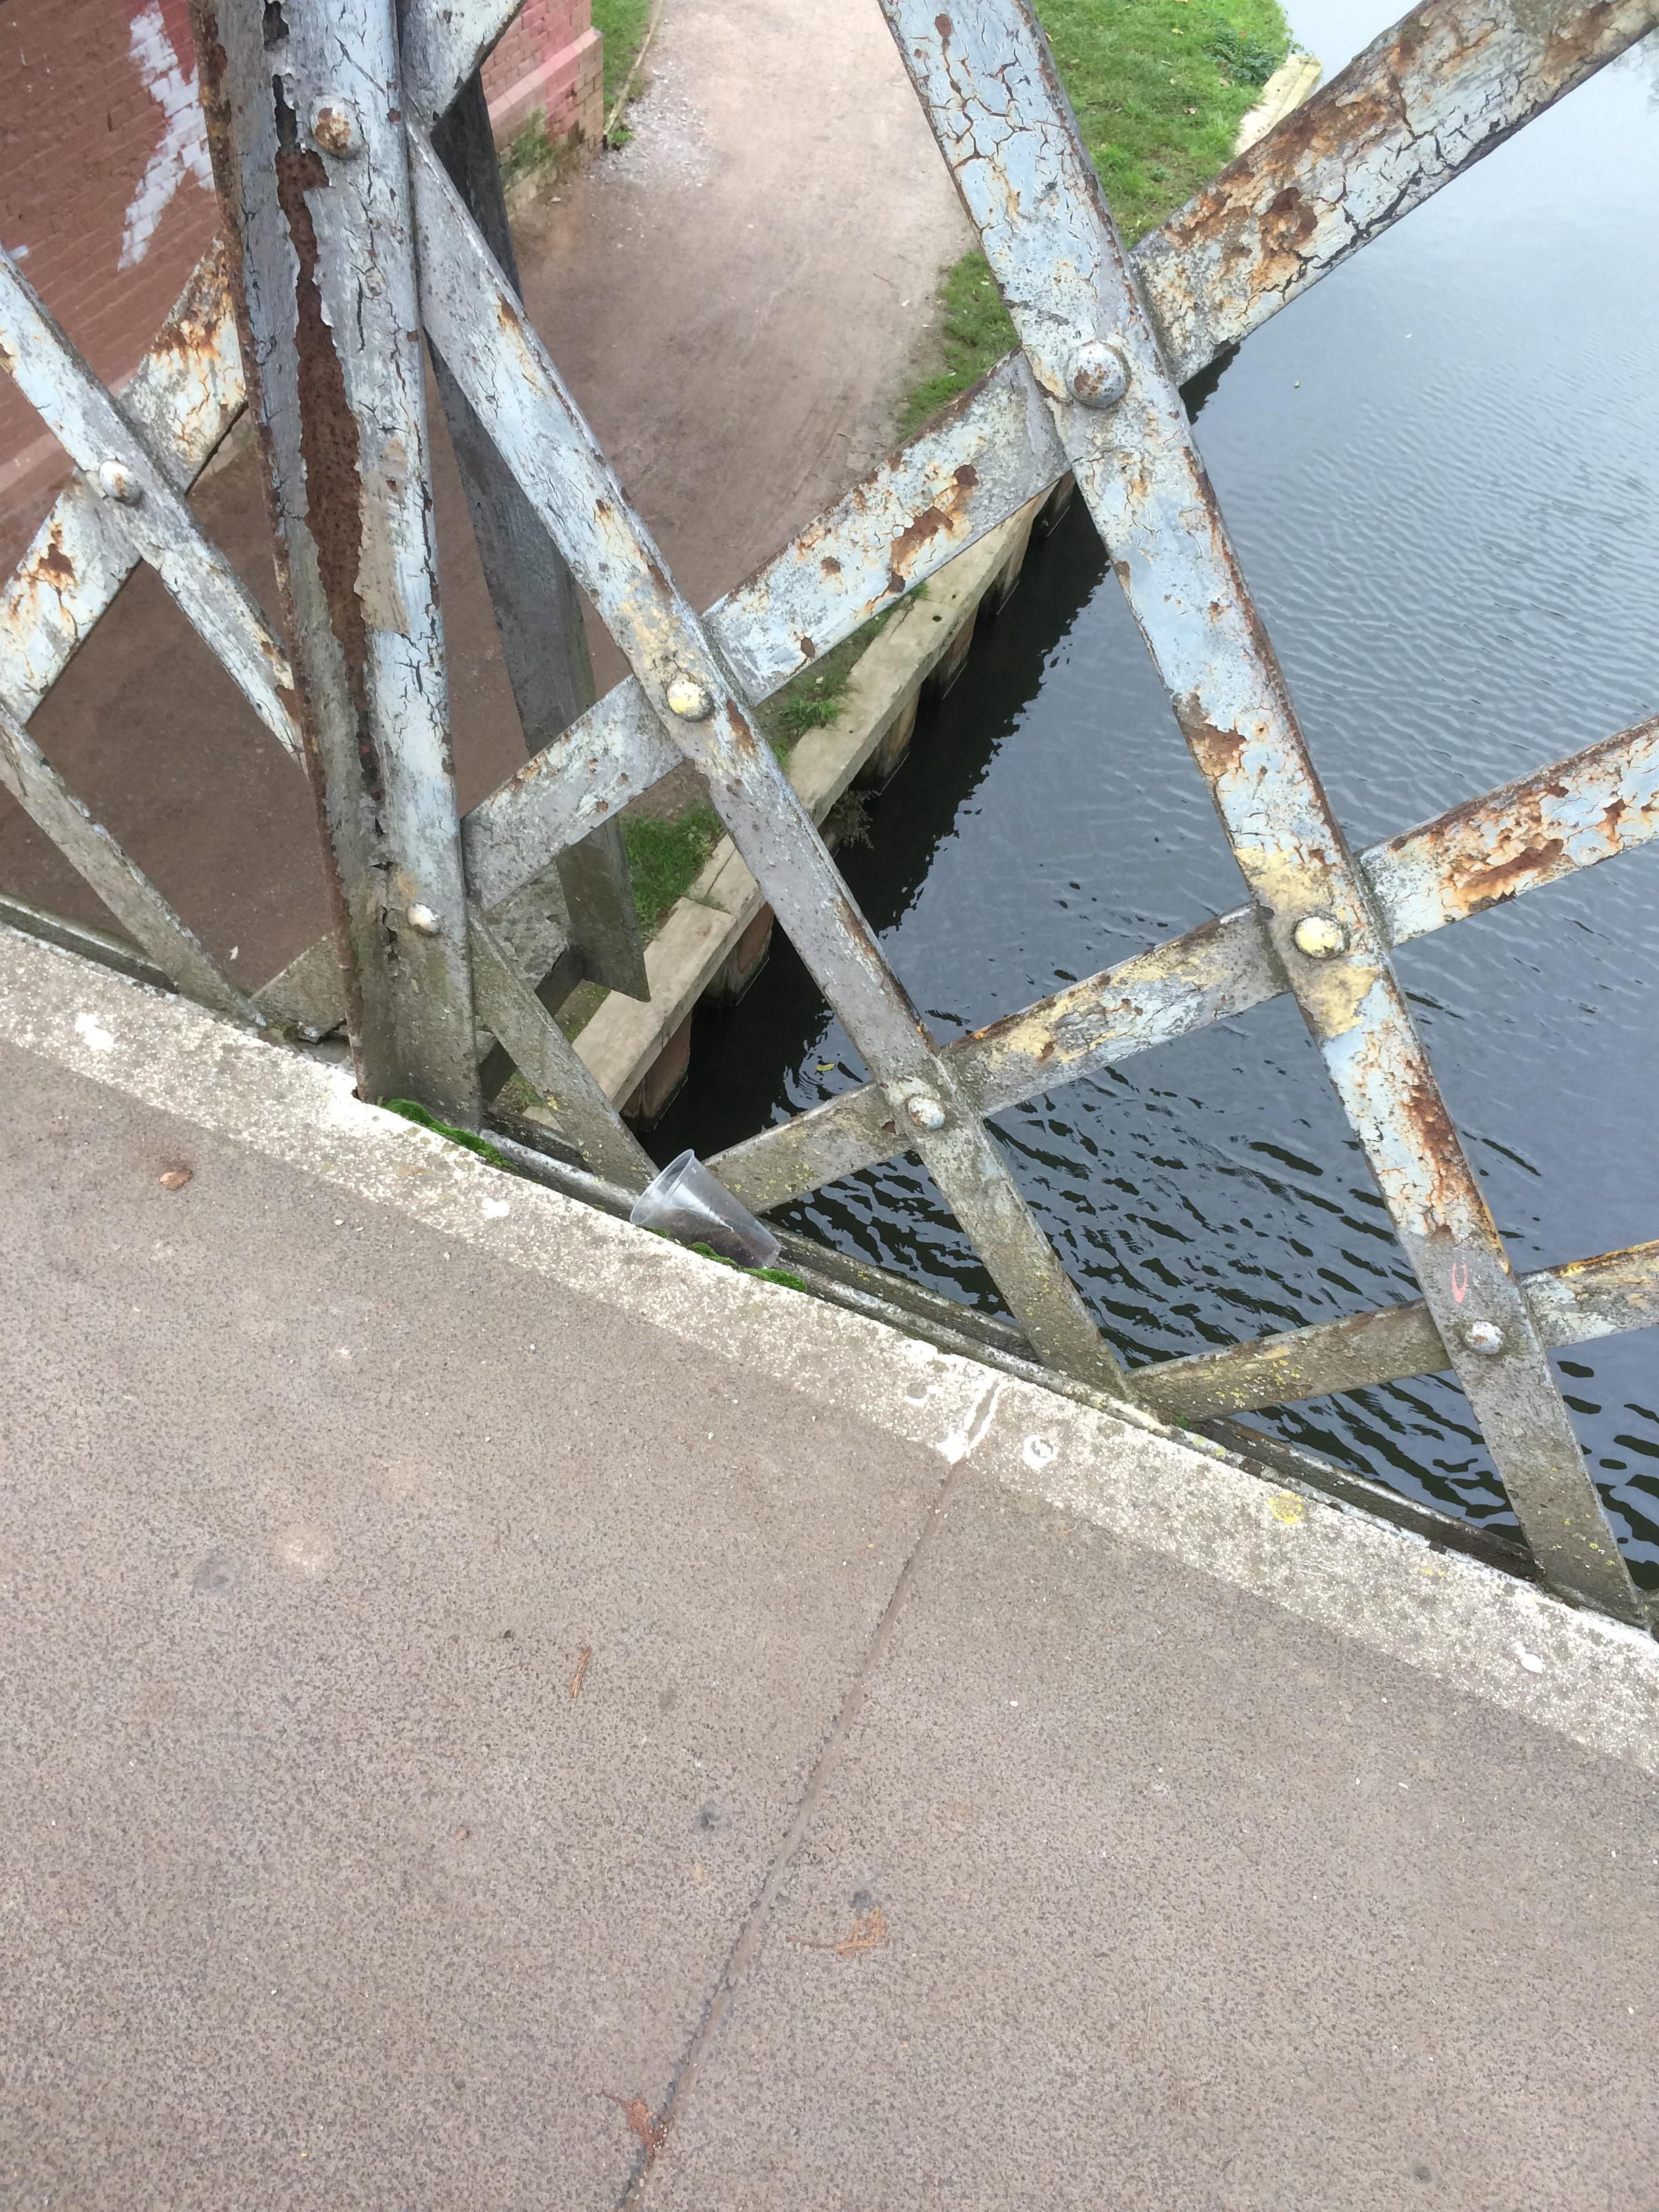Trash: (605, 1125, 781, 1282)
